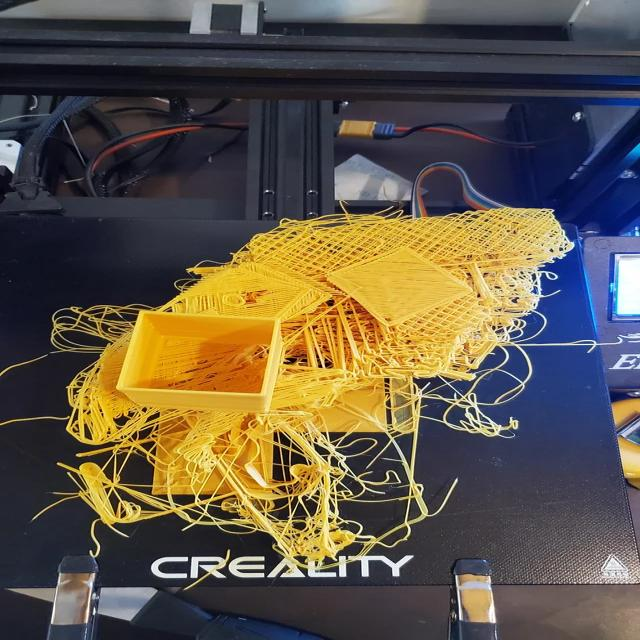spaghetti: (6, 412, 594, 590), (390, 214, 564, 446), (18, 280, 140, 368)
